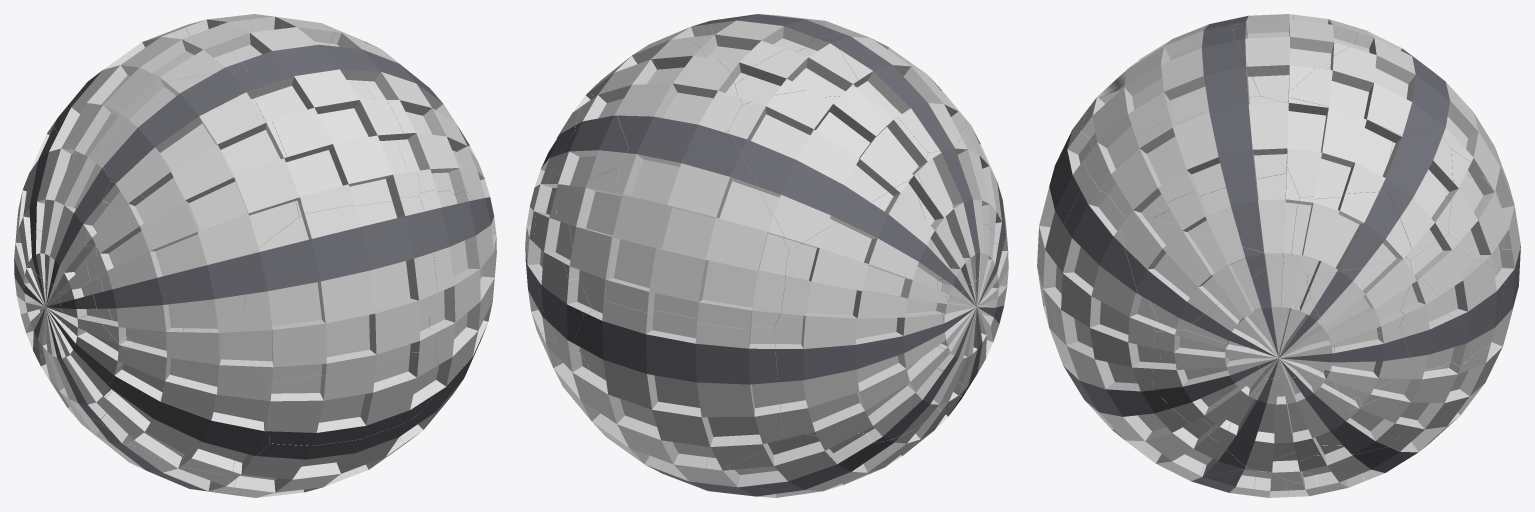
Rendered from parcalı.top.fbx.
3 renders of one model, left to right at view 1: azimuth 30°, elevation 25°; view 2: azimuth 150°, elevation 25°; view 3: azimuth 270°, elevation 25°, orthographic.
Visible parts, largest first — view 1: Sphere_cell.018, Sphere_cell.025, Sphere_cell.011, Sphere_cell.015, Sphere_cell.031, Sphere_cell.019, Sphere_cell.047, Sphere_cell, Sphere_cell.034, Sphere_cell.026, Sphere_cell.022, Sphere_cell.024 (+11 smaller); view 2: Sphere_cell.014, Sphere_cell.034, Sphere_cell.043, Sphere_cell.042, Sphere_cell.007, Sphere_cell.010, Sphere_cell.002, Sphere_cell.025, Sphere_cell.022, Sphere_cell.035, Sphere_cell.013, Sphere_cell.017 (+16 smaller); view 3: Sphere_cell.047, Sphere_cell, Sphere_cell.015, Sphere_cell.030, Sphere_cell.020, Sphere_cell.027, Sphere_cell.009, Sphere_cell.002, Sphere_cell.006, Sphere_cell.003, Sphere_cell.001, Sphere_cell.048 (+22 smaller).
Boxes of the visible parts, x1,y1,x2,y2 form: Sphere_cell.018: (243,196,437,385); Sphere_cell.025: (98,72,299,251); Sphere_cell.011: (100,307,269,474); Sphere_cell.015: (244,44,421,216); Sphere_cell.031: (85,181,253,349); Sphere_cell.019: (269,347,437,445); Sphere_cell.047: (419,189,495,386); Sphere_cell: (328,33,461,192); Sphere_cell.034: (53,30,176,156); Sphere_cell.026: (225,412,420,495); Sphere_cell.022: (27,154,111,287); Sphere_cell.024: (58,315,131,422); Sphere_cell.014: (573,300,782,468); Sphere_cell.034: (728,86,927,251); Sphere_cell.043: (774,314,945,446); Sphere_cell.042: (779,175,946,318); Sphere_cell.007: (604,216,786,329); Sphere_cell.010: (617,131,788,257); Sphere_cell.002: (616,38,741,148); Sphere_cell.025: (828,33,966,152); Sphere_cell.022: (916,151,984,301); Sphere_cell.035: (728,431,911,494); Sphere_cell.013: (556,167,622,315); Sphere_cell.017: (735,35,858,105); Sphere_cell.047: (1052,177,1160,391); Sphere_cell: (1093,88,1288,219); Sphere_cell.015: (1080,29,1260,177); Sphere_cell.030: (1120,216,1281,331); Sphere_cell.020: (1286,97,1400,199); Sphere_cell.027: (1218,372,1346,471); Sphere_cell.009: (1153,328,1264,441); Sphere_cell.002: (1287,47,1438,134); Sphere_cell.006: (1291,191,1411,274); Sphere_cell.003: (1154,167,1299,256); Sphere_cell.001: (1075,375,1246,475); Sphere_cell.048: (1307,258,1417,345).
Size of the model in its own units: 439 by 439 by 439.
